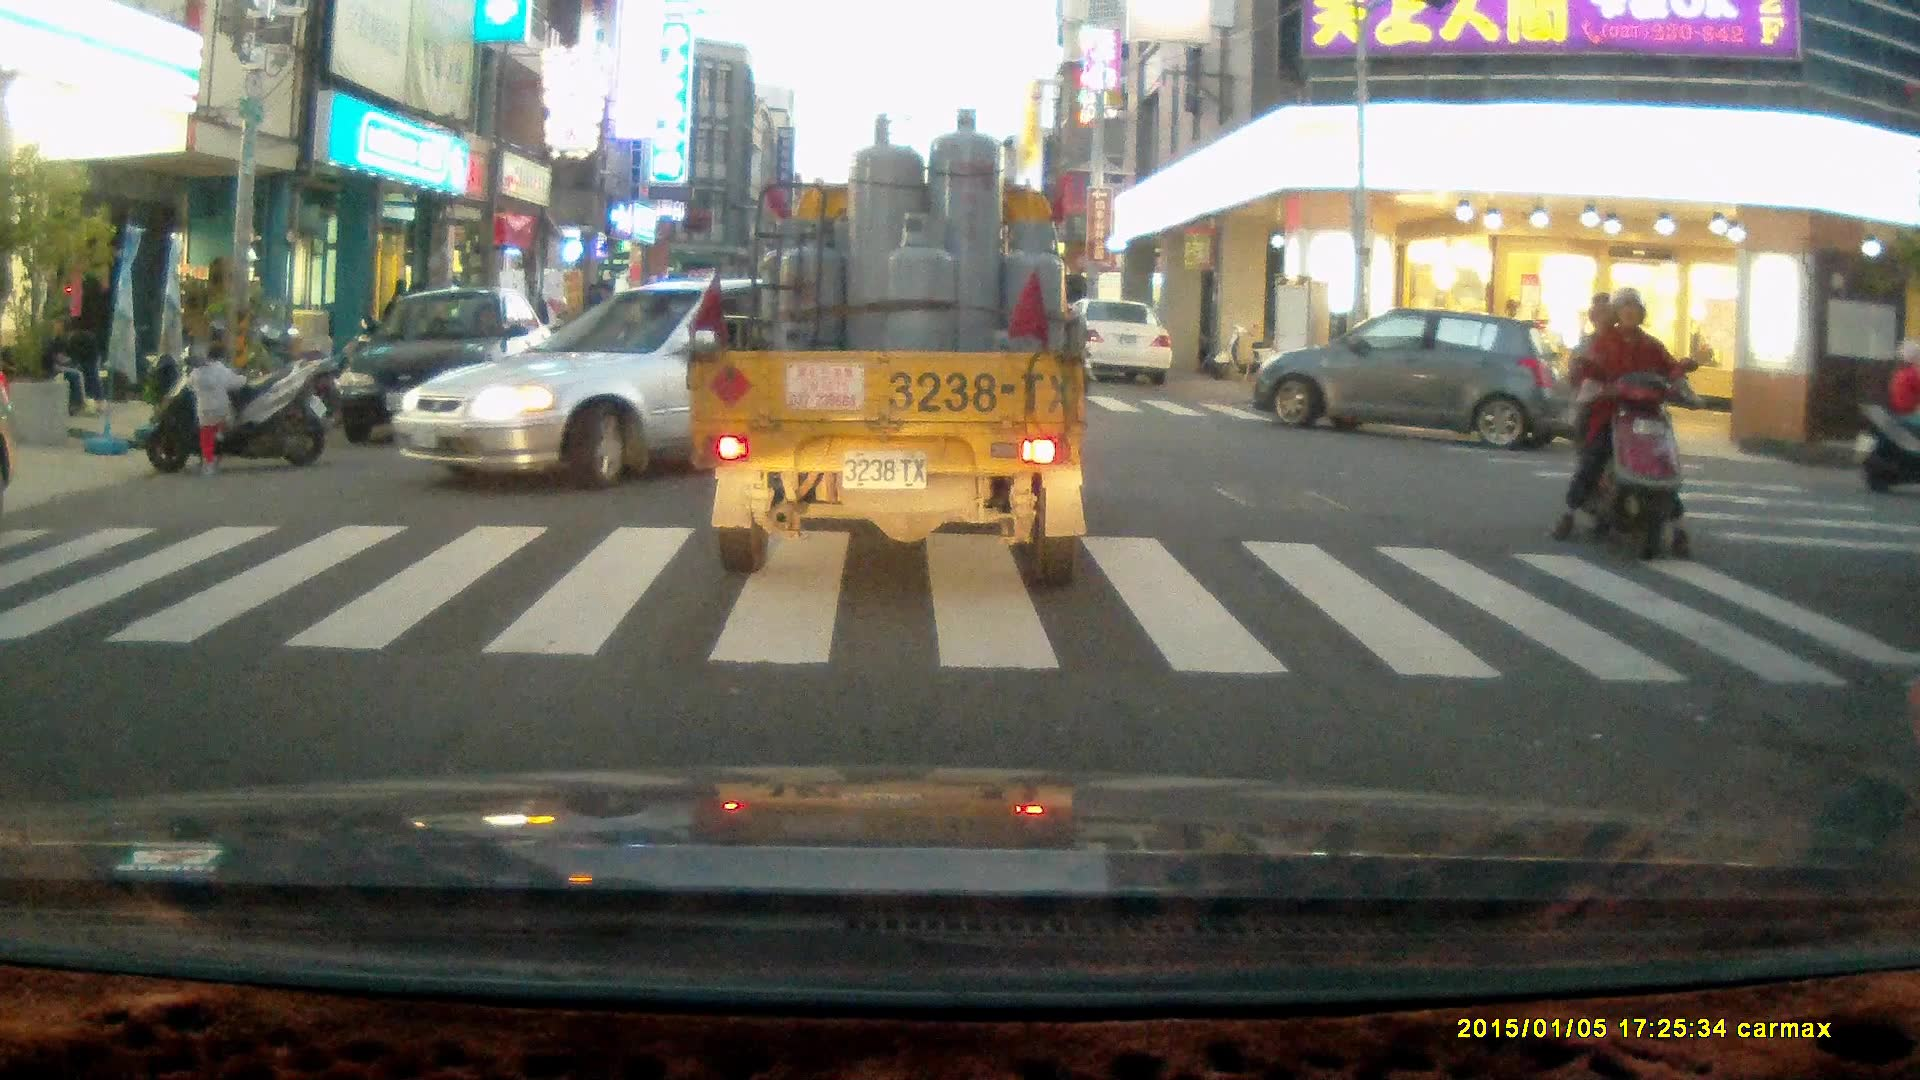pedestrian: (185, 339, 245, 473)
rider: (1550, 286, 1692, 562), (1846, 333, 1920, 492)
vehicle: (685, 109, 1091, 593), (396, 278, 942, 482), (1253, 311, 1564, 449), (332, 286, 559, 440), (1066, 298, 1174, 383)
